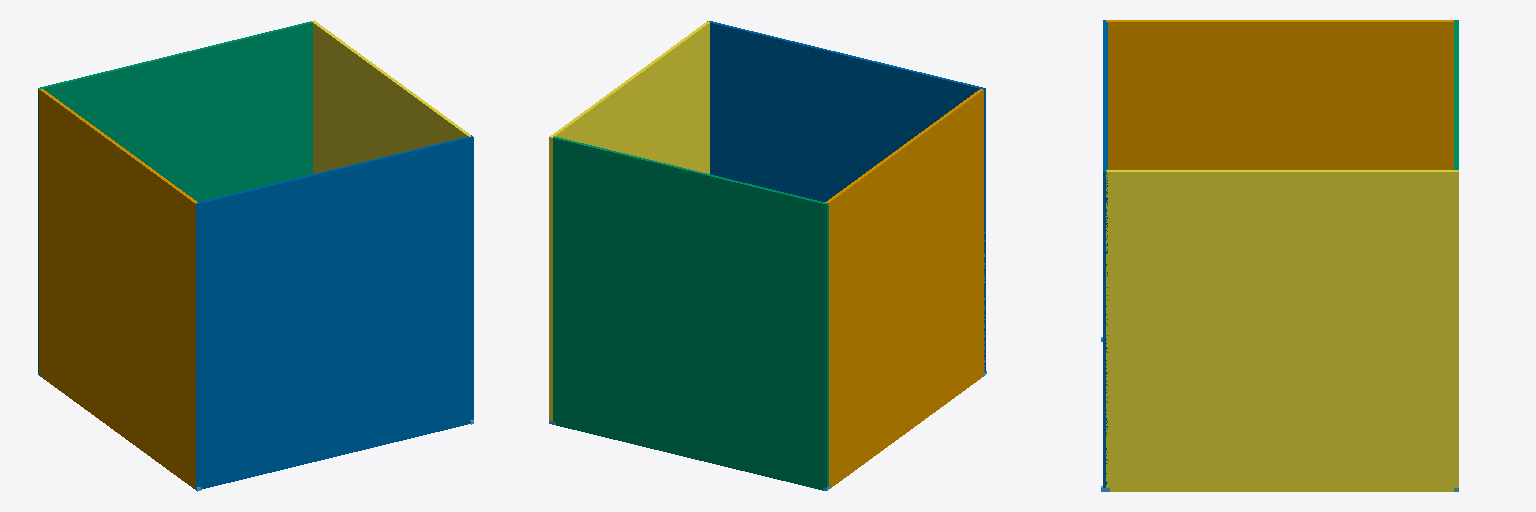
--- Render facts (derived) ---
The picture shows the robot from 3 angles, left to right: view 1: azimuth 30°, elevation 25°; view 2: azimuth 150°, elevation 25°; view 3: azimuth 270°, elevation 25°; orthographic projection.
Robot: arena2 — 44 links, 43 joints (43 fixed); root link base_link; default pose: all joints at 0.
Links seen in each view (by area): view 1: parede4, base_link, parede2, parede3; view 2: parede2, base_link, parede4, parede3; view 3: parede3, base_link, parede4, parede2.
Boxes of the visible links, x1,y1,x2,y2 form: parede4: (195,135,473,489); base_link: (39,89,197,488); parede2: (38,21,312,371); parede3: (311,20,470,173); parede2: (553,136,828,490); base_link: (825,89,984,487); parede4: (707,21,985,371); parede3: (549,21,709,420); parede3: (1106,170,1458,491); base_link: (1106,20,1453,169); parede4: (1103,20,1107,487); parede2: (1454,20,1458,169).
Bounding box of the posed robot: 8.2 × 8.2 × 8.1 m (x, y, z).
44 mesh visuals loaded from 44 distinct referenced files (44 binary STL).

robot.urdf — arena2:
<?xml version='1.0' encoding='utf-8'?>
<robot name="arena2">
    <link name="base_link">
        <inertial>
            <origin xyz="-0.04999999999999956 3.9999999999999987 4.151234949058351" rpy="0.0 0.0 0.0" />
            <mass value="50852.299999999996" />
            <inertia ixx="548920.5270285327" iyy="277911.87627853174" izz="271093.4045833327" ixy="4.219776156466371e-10" iyz="1.0136661484731285e-10" ixz="-1.3786939823890634e-10" />
        </inertial>
        <visual name="base_link_visual">
            <origin xyz="0.0 0.0 0.0" rpy="0.0 0.0 0.0" />
            <geometry>
                <mesh filename="meshes/base_link.stl" scale="0.001 0.001 0.001" />
            </geometry>
        </visual>
        <collision name="base_link_collision">
            <origin xyz="0.0 0.0 0.0" rpy="0.0 0.0 0.0" />
            <geometry>
                <mesh filename="meshes/base_link.stl" scale="0.001 0.001 0.001" />
            </geometry>
        </collision>
    </link>
    <link name="piso">
        <inertial>
            <origin xyz="4.051311075503581 3.755345033912505e-05 -3.8978588629953443" rpy="0.0 -0.0 0.0" />
            <mass value="50264.649" />
            <inertia ixx="268677.25992561993" iyy="537241.6067224811" izz="268647.9978614189" ixy="3.3022105256368373" iyz="5.294360733867505" ixz="177.26065253478006" />
        </inertial>
        <visual name="piso_visual">
            <origin xyz="0.05 0.05000000000000002 -7.900000000000001" rpy="1.5707963267948966 -5.5511151230449725e-17 1.1102230246251565e-16" />
            <geometry>
                <mesh filename="meshes/piso.stl" scale="0.001 0.001 0.001" />
            </geometry>
        </visual>
        <collision name="piso_collision">
            <origin xyz="0.05 0.05000000000000002 -7.900000000000001" rpy="1.5707963267948966 -5.5511151230449725e-17 1.1102230246251565e-16" />
            <geometry>
                <mesh filename="meshes/piso.stl" scale="0.001 0.001 0.001" />
            </geometry>
        </collision>
    </link>
    <link name="parede2">
        <inertial>
            <origin xyz="4.001219698124713 1.1368683772161603e-15 3.950000000000001" rpy="-5.473822126268817e-48 -6.842277657836022e-49 0.0" />
            <mass value="51488.149999999994" />
            <inertia ixx="281388.9935833317" iyy="562692.0969862903" izz="281388.91698629316" ixy="-1.734193564042016e-27" iyz="-9.313225746154784e-10" ixz="-2.328306436538696e-10" />
        </inertial>
        <visual name="parede2_visual">
            <origin xyz="-0.15 8.05 0.0" rpy="-3.141592653589793 -1.5707963267948966 0" />
            <geometry>
                <mesh filename="meshes/parede2.stl" scale="0.001 0.001 0.001" />
            </geometry>
        </visual>
        <collision name="parede2_collision">
            <origin xyz="-0.15 8.05 0.0" rpy="-3.141592653589793 -1.5707963267948966 0" />
            <geometry>
                <mesh filename="meshes/parede2.stl" scale="0.001 0.001 0.001" />
            </geometry>
        </collision>
    </link>
    <link name="parede3">
        <inertial>
            <origin xyz="0.0 4.001219698124713 3.950000000000001" rpy="0.0 -0.0 0.0" />
            <mass value="51488.149999999994" />
            <inertia ixx="562692.096986291" iyy="281388.99358333263" izz="281388.9169862893" ixy="2.328306436538696e-10" iyz="3.4924596548080434e-10" ixz="-1.164153218269348e-09" />
        </inertial>
        <visual name="parede3_visual">
            <origin xyz="-8.05 -0.15 8.000000000000002" rpy="-1.5707963267948966 5.5511151230449725e-17 -1.1102230246251565e-16" />
            <geometry>
                <mesh filename="meshes/parede3.stl" scale="0.001 0.001 0.001" />
            </geometry>
        </visual>
        <collision name="parede3_collision">
            <origin xyz="-8.05 -0.15 8.000000000000002" rpy="-1.5707963267948966 5.5511151230449725e-17 -1.1102230246251565e-16" />
            <geometry>
                <mesh filename="meshes/parede3.stl" scale="0.001 0.001 0.001" />
            </geometry>
        </collision>
    </link>
    <link name="parede4">
        <inertial>
            <origin xyz="4.001204819277108 -2.3092638912203257e-16 4.0" rpy="-5.473822126268817e-48 -6.842277657836022e-49 0.0" />
            <mass value="52123.99999999999" />
            <inertia ixx="291942.0233333326" iyy="576721.1076706818" izz="284865.9576706828" ixy="1.273292582482099e-10" iyz="-3.6743585951626296e-10" ixz="-3.492459654808044e-10" />
        </inertial>
        <visual name="parede4_visual">
            <origin xyz="-0.15 -0.05 -3.552713678800501e-17" rpy="-3.141592653589793 -1.5707963267948966 0" />
            <geometry>
                <mesh filename="meshes/parede4.stl" scale="0.001 0.001 0.001" />
            </geometry>
        </visual>
        <collision name="parede4_collision">
            <origin xyz="-0.15 -0.05 -3.552713678800501e-17" rpy="-3.141592653589793 -1.5707963267948966 0" />
            <geometry>
                <mesh filename="meshes/parede4.stl" scale="0.001 0.001 0.001" />
            </geometry>
        </collision>
    </link>
    <link name="prateleira">
        <inertial>
            <origin xyz="0.00010377143843697922 1.9499636789186838 1.9546700793635738" rpy="0.0 -0.0 0.0" />
            <mass value="3788.0900444916265" />
            <inertia ixx="11660.252028799558" iyy="3086.56643726112" izz="8630.4806542517" ixy="-0.013773031590972094" iyz="-0.048601869304548004" ixz="0.01169535102235386" />
        </inertial>
        <visual name="prateleira_visual">
            <origin xyz="-7.749999999999941 -3.049999999999983 -0.1989999999999914" rpy="-9.324541102565256e-16 6.738535997530123e-16 5.551115123125752e-17" />
            <geometry>
                <mesh filename="meshes/prateleira.stl" scale="0.001 0.001 0.001" />
            </geometry>
        </visual>
        <collision name="prateleira_collision">
            <origin xyz="-7.749999999999941 -3.049999999999983 -0.1989999999999914" rpy="-9.324541102565256e-16 6.738535997530123e-16 5.551115123125752e-17" />
            <geometry>
                <mesh filename="meshes/prateleira.stl" scale="0.001 0.001 0.001" />
            </geometry>
        </collision>
    </link>
    <link name="cubo_A0">
        <inertial>
            <origin xyz="-2.6147972675971688e-14 -2.1600499167107046e-14 0.049999999999980956" rpy="0.0 -0.0 0.0" />
            <mass value="7.85" />
            <inertia ixx="0.013083333333327118" iyy="0.013083333333213432" izz="0.013083333333156588" ixy="5.684341886080802e-14" iyz="-2.842170943040401e-14" ixz="-1.4210854715202004e-14" />
        </inertial>
        <visual name="cubo_A0_visual">
            <origin xyz="-7.650000000000026 -3.8500000000000227 -1.300000000000007" rpy="-6.183424485211102e-16 1.1102230246251568e-16 5.551115123125782e-17" />
            <geometry>
                <mesh filename="meshes/cubo_A0.stl" scale="0.001 0.001 0.001" />
            </geometry>
        </visual>
        <collision name="cubo_A0_collision">
            <origin xyz="-7.650000000000026 -3.8500000000000227 -1.300000000000007" rpy="-6.183424485211102e-16 1.1102230246251568e-16 5.551115123125782e-17" />
            <geometry>
                <mesh filename="meshes/cubo_A0.stl" scale="0.001 0.001 0.001" />
            </geometry>
        </collision>
    </link>
    <link name="cubo_A0b">
        <inertial>
            <origin xyz="-0.0011547764750378066 -0.03841938915680942 5.000000002269189e-05" rpy="6.842277657836021e-49 -0.0 0.0" />
            <mass value="0.00336645554756152" />
            <inertia ixx="2.669010781441993e-06" iyy="2.0155568952739947e-06" izz="4.684562065898623e-06" ixy="-7.223226271974023e-08" iyz="6.9388939039072276e-18" ixz="-1.3877787807814455e-17" />
        </inertial>
        <visual name="cubo_A0b_visual">
            <origin xyz="-3.9501999860443404 1.1489999999999985 7.699999999999996" rpy="1.5707963267948961 1.5707963267948966 0" />
            <geometry>
                <mesh filename="meshes/cubo_A0b.stl" scale="0.001 0.001 0.001" />
            </geometry>
        </visual>
        <collision name="cubo_A0b_collision">
            <origin xyz="-3.9501999860443404 1.1489999999999985 7.699999999999996" rpy="1.5707963267948961 1.5707963267948966 0" />
            <geometry>
                <mesh filename="meshes/cubo_A0b.stl" scale="0.001 0.001 0.001" />
            </geometry>
        </collision>
    </link>
    <link name="cubo_A1">
        <inertial>
            <origin xyz="-2.842170943040401e-14 -2.7284841053187846e-14 0.04999999999998266" rpy="0.0 -0.0 0.0" />
            <mass value="7.85" />
            <inertia ixx="0.013083333333412384" iyy="0.013083333333156588" izz="0.013083333333611336" ixy="5.684341886080802e-14" iyz="-2.1316282072803006e-14" ixz="-1.4210854715202004e-14" />
        </inertial>
        <visual name="cubo_A1_visual">
            <origin xyz="-1.3500000000000194 4.649999999999968 -7.600000000000019" rpy="-3.141592653589793 -1.5707963267948961 0" />
            <geometry>
                <mesh filename="meshes/cubo_A1.stl" scale="0.001 0.001 0.001" />
            </geometry>
        </visual>
        <collision name="cubo_A1_collision">
            <origin xyz="-1.3500000000000194 4.649999999999968 -7.600000000000019" rpy="-3.141592653589793 -1.5707963267948961 0" />
            <geometry>
                <mesh filename="meshes/cubo_A1.stl" scale="0.001 0.001 0.001" />
            </geometry>
        </collision>
    </link>
    <link name="cubo_A1b">
        <inertial>
            <origin xyz="-5.00000000261025e-05 0.038703741367541795 0.0017943905962590635" rpy="1.3684555315672045e-48 -0.0 1.3684555315672045e-48" />
            <mass value="0.0034221229338991153" />
            <inertia ixx="4.749550716900973e-06" iyy="2.037479303718115e-06" izz="2.712077116856503e-06" ixy="1.3877787807814455e-17" iyz="-1.1235175650589623e-07" ixz="2.7755575615628907e-17" />
        </inertial>
        <visual name="cubo_A1b_visual">
            <origin xyz="-7.699999999999999 -1.1490000000000007 4.750159788511614" rpy="-1.5707963267948972 1.232595164407831e-32 5.721188725465146e-18" />
            <geometry>
                <mesh filename="meshes/cubo_A1b.stl" scale="0.001 0.001 0.001" />
            </geometry>
        </visual>
        <collision name="cubo_A1b_collision">
            <origin xyz="-7.699999999999999 -1.1490000000000007 4.750159788511614" rpy="-1.5707963267948972 1.232595164407831e-32 5.721188725465146e-18" />
            <geometry>
                <mesh filename="meshes/cubo_A1b.stl" scale="0.001 0.001 0.001" />
            </geometry>
        </collision>
    </link>
    <link name="cubo_A2">
        <inertial>
            <origin xyz="-3.2969182939268646e-14 -3.637978807091713e-14 0.04999999999998039" rpy="0.0 -0.0 0.0" />
            <mass value="7.85" />
            <inertia ixx="0.013083333333497649" iyy="0.013083333333327118" izz="0.013083333333270275" ixy="5.684341886080802e-14" iyz="-5.684341886080802e-14" ixz="-5.684341886080802e-14" />
        </inertial>
        <visual name="cubo_A2_visual">
            <origin xyz="-1.3500000000000227 5.549999999999959 -7.600000000000022" rpy="-3.141592653589793 -1.5707963267948961 0" />
            <geometry>
                <mesh filename="meshes/cubo_A2.stl" scale="0.001 0.001 0.001" />
            </geometry>
        </visual>
        <collision name="cubo_A2_collision">
            <origin xyz="-1.3500000000000227 5.549999999999959 -7.600000000000022" rpy="-3.141592653589793 -1.5707963267948961 0" />
            <geometry>
                <mesh filename="meshes/cubo_A2.stl" scale="0.001 0.001 0.001" />
            </geometry>
        </collision>
    </link>
    <link name="cubo_A2b">
        <inertial>
            <origin xyz="-0.0012561454106037218 -5.000000003406058e-05 -0.03840793675875986" rpy="-1.3684555315672042e-48 -0.0 0.0" />
            <mass value="0.003380506809956903" />
            <inertia ixx="2.6805992707767948e-06" iyy="4.723469094469744e-06" izz="2.0428754578527553e-06" ixy="5.5511151231257815e-17" iyz="3.4694469519536138e-18" ixz="-7.896890915834452e-08" />
        </inertial>
        <visual name="cubo_A2b_visual">
            <origin xyz="-5.65 -7.700000000000001 1.149" rpy="-3.141592653589793 -1.232595164407831e-32 1.5707963267948966" />
            <geometry>
                <mesh filename="meshes/cubo_A2b.stl" scale="0.001 0.001 0.001" />
            </geometry>
        </visual>
        <collision name="cubo_A2b_collision">
            <origin xyz="-5.65 -7.700000000000001 1.149" rpy="-3.141592653589793 -1.232595164407831e-32 1.5707963267948966" />
            <geometry>
                <mesh filename="meshes/cubo_A2b.stl" scale="0.001 0.001 0.001" />
            </geometry>
        </collision>
    </link>
    <link name="cubo_A3">
        <inertial>
            <origin xyz="-3.524291969370097e-14 -4.092726157978177e-14 0.04999999999998039" rpy="0.0 -0.0 0.0" />
            <mass value="7.85" />
            <inertia ixx="0.013083333333497649" iyy="0.013083333333327118" izz="0.013083333333156588" ixy="1.1368683772161603e-13" iyz="-5.684341886080802e-14" ixz="-5.684341886080802e-14" />
        </inertial>
        <visual name="cubo_A3_visual">
            <origin xyz="-1.350000000000025 6.349999999999954 -7.600000000000022" rpy="-3.141592653589793 -1.5707963267948961 0" />
            <geometry>
                <mesh filename="meshes/cubo_A3.stl" scale="0.001 0.001 0.001" />
            </geometry>
        </visual>
        <collision name="cubo_A3_collision">
            <origin xyz="-1.350000000000025 6.349999999999954 -7.600000000000022" rpy="-3.141592653589793 -1.5707963267948961 0" />
            <geometry>
                <mesh filename="meshes/cubo_A3.stl" scale="0.001 0.001 0.001" />
            </geometry>
        </collision>
    </link>
    <link name="cubo_A3b">
        <inertial>
            <origin xyz="0.001868768299320891 5.000000003747118e-05 -0.03804275545927098" rpy="1.3684555315672042e-48 -0.0 0.0" />
            <mass value="0.0032945540181828627" />
            <inertia ixx="2.6214247504374716e-06" iyy="4.616598406836923e-06" izz="1.99517914750702e-06" ixy="-2.7755575615628898e-17" iyz="-3.4694469519536138e-18" ixz="1.1716443917147422e-07" />
        </inertial>
        <visual name="cubo_A3b_visual">
            <origin xyz="6.4501689955626 7.699999999999976 1.1490000000000204" rpy="-3.141592653589791 -1.1102230246316025e-16 -1.5707963267948966" />
            <geometry>
                <mesh filename="meshes/cubo_A3b.stl" scale="0.001 0.001 0.001" />
            </geometry>
        </visual>
        <collision name="cubo_A3b_collision">
            <origin xyz="6.4501689955626 7.699999999999976 1.1490000000000204" rpy="-3.141592653589791 -1.1102230246316025e-16 -1.5707963267948966" />
            <geometry>
                <mesh filename="meshes/cubo_A3b.stl" scale="0.001 0.001 0.001" />
            </geometry>
        </collision>
    </link>
    <link name="cubo_B0">
        <inertial>
            <origin xyz="-1.432454155292362e-13 -7.958078640513123e-14 0.049999999999995166" rpy="0.0 -0.0 0.0" />
            <mass value="7.850000000007763" />
            <inertia ixx="0.013083333333725022" iyy="0.013083333333327118" izz="0.013083333333383962" ixy="1.7053025658242404e-13" iyz="1.5631940186722204e-13" ixz="-5.684341886080802e-14" />
        </inertial>
        <visual name="cubo_B0_visual">
            <origin xyz="-1.9000000000001034 6.149999999999919 -7.599999999999895" rpy="-3.141592653589793 -1.5707963267948961 0" />
            <geometry>
                <mesh filename="meshes/cubo_B0.stl" scale="0.001 0.001 0.001" />
            </geometry>
        </visual>
        <collision name="cubo_B0_collision">
            <origin xyz="-1.9000000000001034 6.149999999999919 -7.599999999999895" rpy="-3.141592653589793 -1.5707963267948961 0" />
            <geometry>
                <mesh filename="meshes/cubo_B0.stl" scale="0.001 0.001 0.001" />
            </geometry>
        </collision>
    </link>
    <link name="cubo_B0b">
        <inertial>
            <origin xyz="-0.001805563802662391 -5.0000000145473676e-05 -0.039465968419811474" rpy="-1.3684555315672042e-48 -0.0 3.78367363846703e-78" />
            <mass value="0.003579227627820707" />
            <inertia ixx="2.8313631682819187e-06" iyy="4.985599320939114e-06" izz="2.1542421179687743e-06" ixy="-5.558462372002816e-17" iyz="-6.942765923246245e-18" ixz="-1.135288076326013e-07" />
        </inertial>
        <visual name="cubo_B0b_visual">
            <origin xyz="-6.250182210361124 -7.70000000000011 1.74900000000021" rpy="-3.14159265358976 -1.1102230246316213e-16 1.5707963267949308" />
            <geometry>
                <mesh filename="meshes/cubo_B0b.stl" scale="0.001 0.001 0.001" />
            </geometry>
        </visual>
        <collision name="cubo_B0b_collision">
            <origin xyz="-6.250182210361124 -7.70000000000011 1.74900000000021" rpy="-3.14159265358976 -1.1102230246316213e-16 1.5707963267949308" />
            <geometry>
                <mesh filename="meshes/cubo_B0b.stl" scale="0.001 0.001 0.001" />
            </geometry>
        </collision>
    </link>
    <link name="cubo_B1">
        <inertial>
            <origin xyz="-1.3301360013429075e-13 -7.503331289626658e-14 0.049999999999988345" rpy="0.0 -0.0 0.0" />
            <mass value="7.850000000006157" />
            <inertia ixx="0.013083333333497649" iyy="0.013083333333383962" izz="0.013083333333270275" ixy="5.684341886080802e-14" iyz="-2.842170943040401e-14" ixz="-9.448429489215297e-47" />
        </inertial>
        <visual name="cubo_B1_visual">
            <origin xyz="-1.9000000000000945 5.449999999999923 -7.599999999999913" rpy="-3.141592653589793 -1.5707963267948961 0" />
            <geometry>
                <mesh filename="meshes/cubo_B1.stl" scale="0.001 0.001 0.001" />
            </geometry>
        </visual>
        <collision name="cubo_B1_collision">
            <origin xyz="-1.9000000000000945 5.449999999999923 -7.599999999999913" rpy="-3.141592653589793 -1.5707963267948961 0" />
            <geometry>
                <mesh filename="meshes/cubo_B1.stl" scale="0.001 0.001 0.001" />
            </geometry>
        </collision>
    </link>
    <link name="cubo_B1b">
        <inertial>
            <origin xyz="-0.0016257857979690017 -5.0000000134104996e-05 -0.03905541597279893" rpy="-1.3684555315672042e-48 -0.0 3.783673638467073e-78" />
            <mass value="0.003486966925180386" />
            <inertia ixx="2.7612849005376186e-06" iyy="4.8189532964593146e-06" izz="2.057674207467386e-06" ixy="5.54409722873542e-17" iyz="-6.942363481795336e-18" ixz="-1.0172909950534324e-07" />
        </inertial>
        <visual name="cubo_B1b_visual">
            <origin xyz="-5.550186070069085 -7.70000000000019 1.749000000000191" rpy="-3.14159265358976 -1.1102230246316213e-16 1.5707963267949308" />
            <geometry>
                <mesh filename="meshes/cubo_B1b.stl" scale="0.001 0.001 0.001" />
            </geometry>
        </visual>
        <collision name="cubo_B1b_collision">
            <origin xyz="-5.550186070069085 -7.70000000000019 1.749000000000191" rpy="-3.14159265358976 -1.1102230246316213e-16 1.5707963267949308" />
            <geometry>
                <mesh filename="meshes/cubo_B1b.stl" scale="0.001 0.001 0.001" />
            </geometry>
        </collision>
    </link>
    <link name="cubo_B2">
        <inertial>
            <origin xyz="-1.20508047984913e-13 -6.30961949354969e-14 0.04999999999997698" rpy="0.0 -0.0 0.0" />
            <mass value="7.85000000000464" />
            <inertia ixx="0.013083333333611336" iyy="0.013083333333554492" izz="0.013083333333270275" ixy="5.684341886080802e-14" iyz="-4.263256414560601e-14" ixz="-2.842170943040401e-14" />
        </inertial>
        <visual name="cubo_B2_visual">
            <origin xyz="1.8999999999998387 -4.70000000000007 -7.5999999999999295" rpy="-6.69535286834775e-17 -1.5707963267948961 0" />
            <geometry>
                <mesh filename="meshes/cubo_B2.stl" scale="0.001 0.001 0.001" />
            </geometry>
        </visual>
        <collision name="cubo_B2_collision">
            <origin xyz="1.8999999999998387 -4.70000000000007 -7.5999999999999295" rpy="-6.69535286834775e-17 -1.5707963267948961 0" />
            <geometry>
                <mesh filename="meshes/cubo_B2.stl" scale="0.001 0.001 0.001" />
            </geometry>
        </collision>
    </link>
    <link name="cubo_B2b">
        <inertial>
            <origin xyz="0.001687823284250385 -5.000000012159944e-05 0.038702858515766256" rpy="-2.7369110631344083e-48 -5.473822126268818e-48 -6.310887241768096e-30" />
            <mass value="0.0034174831577890932" />
            <inertia ixx="2.708368665615967e-06" iyy="4.701763045969474e-06" izz="1.993400076227836e-06" ixy="-2.766492653425514e-17" iyz="-2.08118823705391e-17" ixz="-1.0553862871826024e-07" />
        </inertial>
        <visual name="cubo_B2b_visual">
            <origin xyz="4.800213417209187 -7.700000000000058 -1.7489999999997836" rpy="-4.5970612857250995e-14 1.1102230246316326e-16 1.570796326794851" />
            <geometry>
                <mesh filename="meshes/cubo_B2b.stl" scale="0.001 0.001 0.001" />
            </geometry>
        </visual>
        <collision name="cubo_B2b_collision">
            <origin xyz="4.800213417209187 -7.700000000000058 -1.7489999999997836" rpy="-4.5970612857250995e-14 1.1102230246316326e-16 1.570796326794851" />
            <geometry>
                <mesh filename="meshes/cubo_B2b.stl" scale="0.001 0.001 0.001" />
            </geometry>
        </collision>
    </link>
    <link name="cubo_B3">
        <inertial>
            <origin xyz="-1.0459189070388675e-13 -5.74118530494161e-14 0.04999999999996788" rpy="0.0 -0.0 0.0" />
            <mass value="7.850000000002766" />
            <inertia ixx="0.013083333333270275" iyy="0.013083333333156588" izz="0.013083333333270275" ixy="1.1368683772161603e-13" iyz="1.1368683772161603e-13" ixz="-7.105427357601002e-14" />
        </inertial>
        <visual name="cubo_B3_visual">
            <origin xyz="1.8999999999998556 -3.8500000000000645 -7.599999999999956" rpy="-6.69535286834775e-17 -1.5707963267948961 0" />
            <geometry>
                <mesh filename="meshes/cubo_B3.stl" scale="0.001 0.001 0.001" />
            </geometry>
        </visual>
        <collision name="cubo_B3_collision">
            <origin xyz="1.8999999999998556 -3.8500000000000645 -7.599999999999956" rpy="-6.69535286834775e-17 -1.5707963267948961 0" />
            <geometry>
                <mesh filename="meshes/cubo_B3.stl" scale="0.001 0.001 0.001" />
            </geometry>
        </collision>
    </link>
    <link name="cubo_B3b">
        <inertial>
            <origin xyz="0.0014727625821399216 -5.000000010568329e-05 0.038497712811266925" rpy="-2.7369110631344083e-48 -5.473822126268818e-48 1.0033585840863259e-78" />
            <mass value="0.0033823094095438186" />
            <inertia ixx="2.681337578219755e-06" iyy="4.701209886201483e-06" izz="2.0198779451807702e-06" ixy="4.170225329203213e-17" iyz="3.1434283525621654e-21" ixz="-9.216629399261266e-08" />
        </inertial>
        <visual name="cubo_B3b_visual">
            <origin xyz="3.9501806413540783 -7.700000000000135 -1.748999999999864" rpy="-3.460192908509002e-14 1.1102230246316247e-16 1.5707963267948626" />
            <geometry>
                <mesh filename="meshes/cubo_B3b.stl" scale="0.001 0.001 0.001" />
            </geometry>
        </visual>
        <collision name="cubo_B3b_collision">
            <origin xyz="3.9501806413540783 -7.700000000000135 -1.748999999999864" rpy="-3.460192908509002e-14 1.1102230246316247e-16 1.5707963267948626" />
            <geometry>
                <mesh filename="meshes/cubo_B3b.stl" scale="0.001 0.001 0.001" />
            </geometry>
        </collision>
    </link>
    <link name="cubo_C0">
        <inertial>
            <origin xyz="-1.2278178473934532e-13 -2.4729979486437516e-09 0.04999999999992696" rpy="0.0 -0.0 0.0" />
            <mass value="7.850000000002231" />
            <inertia ixx="0.013083333333668179" iyy="0.013083333333270275" izz="0.013083333333611336" ixy="2.2737367544323206e-13" iyz="-1.1368683772161603e-13" ixz="-5.684341886080802e-14" />
        </inertial>
        <visual name="cubo_C0_visual">
            <origin xyz="-2.450000000000047 6.207586632581124 -7.599999999999987" rpy="-3.141592653589793 -1.5707963267948961 0" />
            <geometry>
                <mesh filename="meshes/cubo_C0.stl" scale="0.001 0.001 0.001" />
            </geometry>
        </visual>
        <collision name="cubo_C0_collision">
            <origin xyz="-2.450000000000047 6.207586632581124 -7.599999999999987" rpy="-3.141592653589793 -1.5707963267948961 0" />
            <geometry>
                <mesh filename="meshes/cubo_C0.stl" scale="0.001 0.001 0.001" />
            </geometry>
        </collision>
    </link>
    <link name="cubo_C0b">
        <inertial>
            <origin xyz="-0.0017972795318416956 -5.000000012387318e-05 -0.03789103646434683" rpy="-1.3684555315672042e-48 -0.0 0.0" />
            <mass value="0.0032704932655347844" />
            <inertia ixx="2.597988004532369e-06" iyy="4.533123628136513e-06" izz="1.9351410743828623e-06" ixy="2.7755575615628907e-17" iyz="-2.3852455307631233e-38" ixz="-1.1355523837214275e-07" />
        </inertial>
        <visual name="cubo_C0b_visual">
            <origin xyz="-6.303878076398405 -7.700000000000001 2.2989999999999995" rpy="3.1415926535897927 -1.1102230246316025e-16 1.5707963267948966" />
            <geometry>
                <mesh filename="meshes/cubo_C0b.stl" scale="0.001 0.001 0.001" />
            </geometry>
        </visual>
        <collision name="cubo_C0b_collision">
            <origin xyz="-6.303878076398405 -7.700000000000001 2.2989999999999995" rpy="3.1415926535897927 -1.1102230246316025e-16 1.5707963267948966" />
            <geometry>
                <mesh filename="meshes/cubo_C0b.stl" scale="0.001 0.001 0.001" />
            </geometry>
        </collision>
    </link>
    <link name="cubo_C1">
        <inertial>
            <origin xyz="-1.1596057447604835e-13 -7.844391802791507e-14 0.04999999999992355" rpy="0.0 -0.0 0.0" />
            <mass value="7.850000000002141" />
            <inertia ixx="0.013083333333952396" iyy="0.013083333333497649" izz="0.013083333333611336" ixy="1.1368683772161603e-13" iyz="5.684341886080802e-14" ixz="-5.684341886080802e-14" />
        </inertial>
        <visual name="cubo_C1_visual">
            <origin xyz="-2.450000000000041 5.549999999999918 -7.599999999999994" rpy="-3.141592653589793 -1.5707963267948961 0" />
            <geometry>
                <mesh filename="meshes/cubo_C1.stl" scale="0.001 0.001 0.001" />
            </geometry>
        </visual>
        <collision name="cubo_C1_collision">
            <origin xyz="-2.450000000000041 5.549999999999918 -7.599999999999994" rpy="-3.141592653589793 -1.5707963267948961 0" />
            <geometry>
                <mesh filename="meshes/cubo_C1.stl" scale="0.001 0.001 0.001" />
            </geometry>
        </collision>
    </link>
    <link name="cubo_C1b">
        <inertial>
            <origin xyz="-0.00284178114594738 -5.0000000117051966e-05 -0.03697437164910497" rpy="-1.3684555315672042e-48 -0.0 1.577721810442024e-30" />
            <mass value="0.0031060837184727986" />
            <inertia ixx="2.460046927749148e-06" iyy="4.2583200521723024e-06" izz="1.7982783011571968e-06" ixy="-2.777601961411645e-17" iyz="6.93688481748906e-18" ixz="-1.767211102385313e-07" />
        </inertial>
        <visual name="cubo_C1b_visual">
            <origin xyz="-5.649939888577219 -7.700000000000065 2.299000000000064" rpy="-3.1415926535897825 -1.1102230246316084e-16 1.5707963267949079" />
            <geometry>
                <mesh filename="meshes/cubo_C1b.stl" scale="0.001 0.001 0.001" />
            </geometry>
        </visual>
        <collision name="cubo_C1b_collision">
            <origin xyz="-5.649939888577219 -7.700000000000065 2.299000000000064" rpy="-3.1415926535897825 -1.1102230246316084e-16 1.5707963267949079" />
            <geometry>
                <mesh filename="meshes/cubo_C1b.stl" scale="0.001 0.001 0.001" />
            </geometry>
        </collision>
    </link>
    <link name="cubo_C2">
        <inertial>
            <origin xyz="-1.0686562745831907e-13 -6.423306331271306e-14 0.04999999999991559" rpy="0.0 -0.0 0.0" />
            <mass value="7.849999999999731" />
            <inertia ixx="0.013083333333469227" iyy="0.013083333333156588" izz="0.013083333333270275" ixy="1.1368683772161603e-13" iyz="-4.263256414560601e-14" ixz="2.842170943040401e-14" />
        </inertial>
        <visual name="cubo_C2_visual">
            <origin xyz="-2.4500000000000317 4.699999999999932 -7.600000000000023" rpy="-3.141592653589793 -1.5707963267948961 0" />
            <geometry>
                <mesh filename="meshes/cubo_C2.stl" scale="0.001 0.001 0.001" />
            </geometry>
        </visual>
        <collision name="cubo_C2_collision">
            <origin xyz="-2.4500000000000317 4.699999999999932 -7.600000000000023" rpy="-3.141592653589793 -1.5707963267948961 0" />
            <geometry>
                <mesh filename="meshes/cubo_C2.stl" scale="0.001 0.001 0.001" />
            </geometry>
        </collision>
    </link>
    <link name="cubo_C2b">
        <inertial>
            <origin xyz="-0.001637436390012681 -5.000000010227268e-05 -0.03756122361987508" rpy="-2.7369110631344083e-48 -0.0 -3.7836736384670235e-78" />
            <mass value="0.0032174421912717806" />
            <inertia ixx="2.550816307816949e-06" iyy="4.490030092993423e-06" izz="1.9392191474287834e-06" ixy="4.169950234831422e-17" iyz="3.492821080984784e-21" ixz="-1.0241059712756682e-07" />
        </inertial>
        <visual name="cubo_C2b_visual">
            <origin xyz="-4.650205000225202 -7.6999999999998385 2.2989999999998396" rpy="3.1415926535897585 -1.1102230246315833e-16 1.5707963267948626" />
            <geometry>
                <mesh filename="meshes/cubo_C2b.stl" scale="0.001 0.001 0.001" />
            </geometry>
        </visual>
        <collision name="cubo_C2b_collision">
            <origin xyz="-4.650205000225202 -7.6999999999998385 2.2989999999998396" rpy="3.1415926535897585 -1.1102230246315833e-16 1.5707963267948626" />
            <geometry>
                <mesh filename="meshes/cubo_C2b.stl" scale="0.001 0.001 0.001" />
            </geometry>
        </collision>
    </link>
    <link name="cubo_C3">
        <inertial>
            <origin xyz="-1.0004441719502211e-13 -6.082245818106458e-14 0.049999999999921274" rpy="0.0 -0.0 0.0" />
            <mass value="7.849999999999374" />
            <inertia ixx="0.013083333333554492" iyy="0.013083333333270275" izz="0.013083333333383962" ixy="1.4210854715202004e-13" iyz="-5.684341886080802e-14" ixz="-2.842170943040401e-14" />
        </inertial>
        <visual name="cubo_C3_visual">
            <origin xyz="-2.450000000000025 3.749999999999924 -7.600000000000011" rpy="-3.141592653589793 -1.5707963267948961 0" />
            <geometry>
                <mesh filename="meshes/cubo_C3.stl" scale="0.001 0.001 0.001" />
            </geometry>
        </visual>
        <collision name="cubo_C3_collision">
            <origin xyz="-2.450000000000025 3.749999999999924 -7.600000000000011" rpy="-3.141592653589793 -1.5707963267948961 0" />
            <geometry>
                <mesh filename="meshes/cubo_C3.stl" scale="0.001 0.001 0.001" />
            </geometry>
        </collision>
    </link>
    <link name="cubo_C3b">
        <inertial>
            <origin xyz="-0.0020357462900580004 -5.0000000099998944e-05 -0.037459681627859426" rpy="-5.495717414773892e-45 -0.0 1.577721810442024e-30" />
            <mass value="0.003172141183403243" />
            <inertia ixx="2.516895564325104e-06" iyy="4.3399104303967745e-06" izz="1.8230201530855528e-06" ixy="-2.7776300895153206e-17" iyz="6.937463778435332e-18" ixz="-1.2579516684221337e-07" />
        </inertial>
        <visual name="cubo_C3b_visual">
            <origin xyz="-3.749995944484723 -7.700000000000041 2.299000000000054" rpy="-3.1415926535897793 -1.1102230246319316e-16 1.5707963267949079" />
            <geometry>
                <mesh filename="meshes/cubo_C3b.stl" scale="0.001 0.001 0.001" />
            </geometry>
        </visual>
        <collision name="cubo_C3b_collision">
            <origin xyz="-3.749995944484723 -7.700000000000041 2.299000000000054" rpy="-3.1415926535897793 -1.1102230246319316e-16 1.5707963267949079" />
            <geometry>
                <mesh filename="meshes/cubo_C3b.stl" scale="0.001 0.001 0.001" />
            </geometry>
        </collision>
    </link>
    <link name="cubo_D0">
        <inertial>
            <origin xyz="-1.580247044330463e-13 -8.29913915367797e-14 0.04999999999992667" rpy="0.0 -0.0 0.0" />
            <mass value="7.850000000008834" />
            <inertia ixx="0.013083333333668179" iyy="0.013083333333611336" izz="0.013083333333383962" ixy="5.684341886080802e-14" iyz="1.1368683772161603e-13" ixz="-1.1368683772161603e-13" />
        </inertial>
        <visual name="cubo_D0_visual">
            <origin xyz="-3.00000000000004 6.3499999999999135 -7.599999999999953" rpy="-3.141592653589793 -1.5707963267948961 0" />
            <geometry>
                <mesh filename="meshes/cubo_D0.stl" scale="0.001 0.001 0.001" />
            </geometry>
        </visual>
        <collision name="cubo_D0_collision">
            <origin xyz="-3.00000000000004 6.3499999999999135 -7.599999999999953" rpy="-3.141592653589793 -1.5707963267948961 0" />
            <geometry>
                <mesh filename="meshes/cubo_D0.stl" scale="0.001 0.001 0.001" />
            </geometry>
        </collision>
    </link>
    <link name="cubo_D0b">
        <inertial>
            <origin xyz="-0.0015439218719541258 -5.000000016138984e-05 -0.03803729118806473" rpy="-1.3684555315672042e-48 -0.0 1.577721810442024e-30" />
            <mass value="0.0032938960375277853" />
            <inertia ixx="2.612059578493974e-06" iyy="4.569369354889828e-06" izz="1.9573152665874893e-06" ixy="-8.328897888277872e-17" iyz="1.3876691464022206e-17" ixz="-9.643541980935975e-08" />
        </inertial>
        <visual name="cubo_D0b_visual">
            <origin xyz="-6.450258479283258 -7.700000000000074 2.8490000000000704" rpy="-3.1415926535897825 -1.1102230246316084e-16 1.5707963267949079" />
            <geometry>
                <mesh filename="meshes/cubo_D0b.stl" scale="0.001 0.001 0.001" />
            </geometry>
        </visual>
        <collision name="cubo_D0b_collision">
            <origin xyz="-6.450258479283258 -7.700000000000074 2.8490000000000704" rpy="-3.1415926535897825 -1.1102230246316084e-16 1.5707963267949079" />
            <geometry>
                <mesh filename="meshes/cubo_D0b.stl" scale="0.001 0.001 0.001" />
            </geometry>
        </collision>
    </link>
    <link name="cubo_D1">
        <inertial>
            <origin xyz="-1.523403625469655e-13 -7.844391802791507e-14 0.04999999999995623" rpy="0.0 -0.0 0.0" />
            <mass value="7.850000000013654" />
            <inertia ixx="0.013083333333668179" iyy="0.013083333333270275" izz="0.013083333333383962" ixy="5.684341886080802e-14" iyz="-5.684341886080802e-14" ixz="-5.684341886080802e-14" />
        </inertial>
        <visual name="cubo_D1_visual">
            <origin xyz="-3.000000000000033 5.549999999999918 -7.599999999999959" rpy="-3.141592653589793 -1.5707963267948961 0" />
            <geometry>
                <mesh filename="meshes/cubo_D1.stl" scale="0.001 0.001 0.001" />
            </geometry>
        </visual>
        <collision name="cubo_D1_collision">
            <origin xyz="-3.000000000000033 5.549999999999918 -7.599999999999959" rpy="-3.141592653589793 -1.5707963267948961 0" />
            <geometry>
                <mesh filename="meshes/cubo_D1.stl" scale="0.001 0.001 0.001" />
            </geometry>
        </collision>
    </link>
    <link name="cubo_D1b">
        <inertial>
            <origin xyz="-0.0013603586720194016 -5.000000015343176e-05 -0.03772917442886353" rpy="2.2032134058231987e-46 -0.0 3.155443620884048e-30" />
            <mass value="0.0032404595098630127" />
            <inertia ixx="2.574944504230013e-06" iyy="4.512831437153418e-06" izz="1.9378923337143306e-06" ixy="-2.779963806308196e-17" iyz="2.7753701705208663e-17" ixz="-8.241545185887497e-08" />
        </inertial>
        <visual name="cubo_D1b_visual">
            <origin xyz="-5.650210528288317 -7.70000000000013 2.849000042453693" rpy="-3.141592653589765 -1.1102230246329073e-16 1.5707963267949194" />
            <geometry>
                <mesh filename="meshes/cubo_D1b.stl" scale="0.001 0.001 0.001" />
            </geometry>
        </visual>
        <collision name="cubo_D1b_collision">
            <origin xyz="-5.650210528288317 -7.70000000000013 2.849000042453693" rpy="-3.141592653589765 -1.1102230246329073e-16 1.5707963267949194" />
            <geometry>
                <mesh filename="meshes/cubo_D1b.stl" scale="0.001 0.001 0.001" />
            </geometry>
        </collision>
    </link>
    <link name="cubo_D2">
        <inertial>
            <origin xyz="-1.4779288903810084e-13 -7.048583938740194e-14 0.04999999999992156" rpy="0.0 -0.0 0.0" />
            <mass value="7.85000000000812" />
            <inertia ixx="0.013083333333668179" iyy="0.013083333333383962" izz="0.013083333333156588" ixy="5.684341886080802e-14" iyz="-1.2789769243681803e-13" ixz="-1.1368683772161603e-13" />
        </inertial>
        <visual name="cubo_D2_visual">
            <origin xyz="-3.0000000000000298 4.699999999999927 -7.599999999999964" rpy="-3.141592653589793 -1.5707963267948961 0" />
            <geometry>
                <mesh filename="meshes/cubo_D2.stl" scale="0.001 0.001 0.001" />
            </geometry>
        </visual>
        <collision name="cubo_D2_collision">
            <origin xyz="-3.0000000000000298 4.699999999999927 -7.599999999999964" rpy="-3.141592653589793 -1.5707963267948961 0" />
            <geometry>
                <mesh filename="meshes/cubo_D2.stl" scale="0.001 0.001 0.001" />
            </geometry>
        </collision>
    </link>
    <link name="cubo_D2b">
        <inertial>
            <origin xyz="-0.001242745104686378 -5.0000000145473676e-05 -0.03707692817470445" rpy="-1.3684555315672042e-48 -0.0 1.577721810442024e-30" />
            <mass value="0.0031403008496700335" />
            <inertia ixx="2.487587056426709e-06" iyy="4.395386881447803e-06" izz="1.9078050588205997e-06" ixy="-2.777726478854015e-17" iyz="-8.83935851565287e-22" ixz="-7.775181976032995e-08" />
        </inertial>
        <visual name="cubo_D2b_visual">
            <origin xyz="-4.800191113545812 -7.700000000000053 2.849000000000051" rpy="-3.1415926535897825 -1.1102230246316084e-16 1.5707963267949079" />
            <geometry>
                <mesh filename="meshes/cubo_D2b.stl" scale="0.001 0.001 0.001" />
            </geometry>
        </visual>
        <collision name="cubo_D2b_collision">
            <origin xyz="-4.800191113545812 -7.700000000000053 2.849000000000051" rpy="-3.1415926535897825 -1.1102230246316084e-16 1.5707963267949079" />
            <geometry>
                <mesh filename="meshes/cubo_D2b.stl" scale="0.001 0.001 0.001" />
            </geometry>
        </collision>
    </link>
    <link name="cubo_D3">
        <inertial>
            <origin xyz="-1.432454155292362e-13 -6.366462912410498e-14 0.04999999999992213" rpy="0.0 -0.0 0.0" />
            <mass value="7.850000000007942" />
            <inertia ixx="0.013083333333554492" iyy="0.013083333333270275" izz="0.013083333333383962" ixy="1.1368683772161603e-13" iyz="-4.263256414560601e-14" ixz="-2.842170943040401e-14" />
        </inertial>
        <visual name="cubo_D3_visual">
            <origin xyz="-3.0000000000000258 3.7499999999999343 -7.59999999999997" rpy="-3.141592653589793 -1.5707963267948961 0" />
            <geometry>
                <mesh filename="meshes/cubo_D3.stl" scale="0.001 0.001 0.001" />
            </geometry>
        </visual>
        <collision name="cubo_D3_collision">
            <origin xyz="-3.0000000000000258 3.7499999999999343 -7.59999999999997" rpy="-3.141592653589793 -1.5707963267948961 0" />
            <geometry>
                <mesh filename="meshes/cubo_D3.stl" scale="0.001 0.001 0.001" />
            </geometry>
        </collision>
    </link>
    <link name="cubo_D3b">
        <inertial>
            <origin xyz="-0.0016851650604581892 -5.000000014433681e-05 -0.03758061422206992" rpy="-1.3684555315672042e-48 -0.0 1.577721810442024e-30" />
            <mass value="0.003222146756777093" />
            <inertia ixx="2.5546000686771367e-06" iyy="4.525179769690467e-06" izz="1.970585071342512e-06" ixy="-2.240289746866106e-20" iyz="-1.198765973783619e-21" ixz="-1.0544457017258589e-07" />
        </inertial>
        <visual name="cubo_D3b_visual">
            <origin xyz="-3.8501860931788685 -7.700000000000045 2.8490000000000406" rpy="-3.1415926535897825 -1.1102230246316084e-16 1.5707963267949079" />
            <geometry>
                <mesh filename="meshes/cubo_D3b.stl" scale="0.001 0.001 0.001" />
            </geometry>
        </visual>
        <collision name="cubo_D3b_collision">
            <origin xyz="-3.8501860931788685 -7.700000000000045 2.8490000000000406" rpy="-3.1415926535897825 -1.1102230246316084e-16 1.5707963267949079" />
            <geometry>
                <mesh filename="meshes/cubo_D3b.stl" scale="0.001 0.001 0.001" />
            </geometry>
        </collision>
    </link>
    <link name="Base_de_Takeoff">
        <inertial>
            <origin xyz="2.842170943040401e-16 -1.4210854715202004e-16 0.25049999999999983" rpy="0.0 -0.0 0.0" />
            <mass value="11798.549999999997" />
            <inertia ixx="2459.0154457124936" iyy="4179.637320712489" izz="6145.078124999998" ixy="3.6379788070917125e-12" iyz="3.787196790891681e-29" ixz="1.5154852737946934e-29" />
        </inertial>
        <visual name="Base_de_Takeoff_visual">
            <origin xyz="-1.000000000000035 -0.7500000000000396 -0.20100000000000925" rpy="-5.551115123125764e-17 1.1102230246251565e-16 5.5511151230449725e-17" />
            <geometry>
                <mesh filename="meshes/Base_de_Takeoff.stl" scale="0.001 0.001 0.001" />
            </geometry>
        </visual>
        <collision name="Base_de_Takeoff_collision">
            <origin xyz="-1.000000000000035 -0.7500000000000396 -0.20100000000000925" rpy="-5.551115123125764e-17 1.1102230246251565e-16 5.5511151230449725e-17" />
            <geometry>
                <mesh filename="meshes/Base_de_Takeoff.stl" scale="0.001 0.001 0.001" />
            </geometry>
        </collision>
    </link>
    <link name="Base_suspensa_1.5">
        <inertial>
            <origin xyz="0.0 -5.684341886080802e-16 0.750499999999999" rpy="0.0 -0.0 0.0" />
            <mass value="11782.849999999999" />
            <inertia ixx="3194.1352360708297" iyy="3194.1352360708397" izz="1963.808333333232" ixy="1.455191522836685e-11" iyz="1.2102903277451475e-29" ixz="-1.455191522836685e-11" />
        </inertial>
        <visual name="Base_suspensa_1.5_visual">
            <origin xyz="-7.1000000000000005 -1.100000000000001 -0.10000000000000014" rpy="1.9105225048317027e-31 3.4211388288682077e-49 5.551115123044972e-17" />
            <geometry>
                <mesh filename="meshes/Base_suspensa_1.5.stl" scale="0.001 0.001 0.001" />
            </geometry>
        </visual>
        <collision name="Base_suspensa_1.5_collision">
            <origin xyz="-7.1000000000000005 -1.100000000000001 -0.10000000000000014" rpy="1.9105225048317027e-31 3.4211388288682077e-49 5.551115123044972e-17" />
            <geometry>
                <mesh filename="meshes/Base_suspensa_1.5.stl" scale="0.001 0.001 0.001" />
            </geometry>
        </collision>
    </link>
    <link name="base_supensa_1.0">
        <inertial>
            <origin xyz="1.2789769243681803e-15 -2.842170943040401e-15 0.5004999999999995" rpy="0.0 -0.0 0.0" />
            <mass value="7857.849999999996" />
            <inertia ixx="1310.951963154148" iyy="1310.9519631541639" izz="1309.6416666666187" ixy="-1.0913936421275137e-11" iyz="7.275957614183424e-12" ixz="-1.8189894035458563e-12" />
        </inertial>
        <visual name="base_supensa_1.0_visual">
            <origin xyz="-1.0999999999999992 -3.6000000000000023 -0.10000000000000002" rpy="1.9105225048317027e-31 3.4211388288682077e-49 5.551115123044972e-17" />
            <geometry>
                <mesh filename="meshes/base_supensa_1.0.stl" scale="0.001 0.001 0.001" />
            </geometry>
        </visual>
        <collision name="base_supensa_1.0_collision">
            <origin xyz="-1.0999999999999992 -3.6000000000000023 -0.10000000000000002" rpy="1.9105225048317027e-31 3.4211388288682077e-49 5.551115123044972e-17" />
            <geometry>
                <mesh filename="meshes/base_supensa_1.0.stl" scale="0.001 0.001 0.001" />
            </geometry>
        </collision>
    </link>
    <link name="Base_movel_1">
        <inertial>
            <origin xyz="1.1368683772161603e-15 -4.547473508864641e-15 0.6499999999999994" rpy="0.0 -0.0 0.0" />
            <mass value="10205.0" />
            <inertia ixx="2287.6208333331742" iyy="2287.6208333333334" izz="1700.8333333332553" ixy="-1.455191522836685e-11" iyz="1.4551915228366849e-11" ixz="3.6379788070917125e-12" />
        </inertial>
        <visual name="Base_movel_1_visual">
            <origin xyz="-1.6999999999999986 -6.200000000000005 -0.10000000000000007" rpy="1.9105225048317027e-31 3.4211388288682077e-49 5.551115123044972e-17" />
            <geometry>
                <mesh filename="meshes/Base_movel_1.stl" scale="0.001 0.001 0.001" />
            </geometry>
        </visual>
        <collision name="Base_movel_1_collision">
            <origin xyz="-1.6999999999999986 -6.200000000000005 -0.10000000000000007" rpy="1.9105225048317027e-31 3.4211388288682077e-49 5.551115123044972e-17" />
            <geometry>
                <mesh filename="meshes/Base_movel_1.stl" scale="0.001 0.001 0.001" />
            </geometry>
        </collision>
    </link>
    <link name="base_movel_2">
        <inertial>
            <origin xyz="1.1368683772161603e-15 -4.547473508864641e-15 0.6499999999999991" rpy="0.0 -0.0 0.0" />
            <mass value="10205.0" />
            <inertia ixx="2287.6208333331742" iyy="2287.620833333319" izz="1700.8333333332553" ixy="-5.82076609134674e-11" iyz="7.275957614183424e-12" ixz="3.6379788070917125e-12" />
        </inertial>
        <visual name="base_movel_2_visual">
            <origin xyz="-3.6999999999999984 -6.200000000000005 -0.10000000000000013" rpy="1.9105225048317027e-31 3.4211388288682077e-49 5.551115123044972e-17" />
            <geometry>
                <mesh filename="meshes/base_movel_2.stl" scale="0.001 0.001 0.001" />
            </geometry>
        </visual>
        <collision name="base_movel_2_collision">
            <origin xyz="-3.6999999999999984 -6.200000000000005 -0.10000000000000013" rpy="1.9105225048317027e-31 3.4211388288682077e-49 5.551115123044972e-17" />
            <geometry>
                <mesh filename="meshes/base_movel_2.stl" scale="0.001 0.001 0.001" />
            </geometry>
        </collision>
    </link>
    <link name="base_movel_3">
        <inertial>
            <origin xyz="5.684341886080802e-16 -3.9790393202565614e-15 0.6499999999999991" rpy="0.0 -0.0 0.0" />
            <mass value="10205.0" />
            <inertia ixx="2287.6208333332906" iyy="2287.620833333319" izz="1700.8333333333135" ixy="4.9344931600391197e-29" iyz="3.637978807091712e-12" ixz="-3.6379788070917125e-12" />
        </inertial>
        <visual name="base_movel_3_visual">
            <origin xyz="-4.199999999999999 -3.900000000000004 -0.10000000000000007" rpy="1.9105225048317027e-31 3.4211388288682077e-49 5.551115123044972e-17" />
            <geometry>
                <mesh filename="meshes/base_movel_3.stl" scale="0.001 0.001 0.001" />
            </geometry>
        </visual>
        <collision name="base_movel_3_collision">
            <origin xyz="-4.199999999999999 -3.900000000000004 -0.10000000000000007" rpy="1.9105225048317027e-31 3.4211388288682077e-49 5.551115123044972e-17" />
            <geometry>
                <mesh filename="meshes/base_movel_3.stl" scale="0.001 0.001 0.001" />
            </geometry>
        </collision>
    </link>
    <joint name="base_link_Rigido6" type="fixed">
        <origin xyz="-0.05000000000000087 7.9 0.15000000000000044" rpy="-1.5707963267948966 -1.1102230246251565e-16 -5.551115123044973e-17" />
        <parent link="base_link" />
        <child link="piso" />
    </joint>
    <joint name="piso_Rigido7" type="fixed">
        <origin xyz="0.05 0.0 0.14999999999999886" rpy="-1.5707963267948966 -0.0 -1.5707963267948966" />
        <parent link="piso" />
        <child link="parede2" />
    </joint>
    <joint name="piso_Rigido8" type="fixed">
        <origin xyz="8.1 0.0 0.09999999999999887" rpy="3.141592653589793 -0.0 0.0" />
        <parent link="piso" />
        <child link="parede3" />
    </joint>
    <joint name="piso_Rigido9" type="fixed">
        <origin xyz="0.05 0.0 -7.900000000000001" rpy="-1.5707963267948966 -0.0 -1.5707963267948966" />
        <parent link="piso" />
        <child link="parede4" />
    </joint>
    <joint name="piso_Rigido17" type="fixed">
        <origin xyz="7.8 -0.049 -4.850000000000001" rpy="1.5707963267948966 -0.0 0.0" />
        <parent link="piso" />
        <child link="prateleira" />
    </joint>
    <joint name="prateleira_deslizador_A0" type="fixed">
        <origin xyz="-0.1 0.8 1.05" rpy="-6.162975822039156e-33 5.847028654060601e-65 9.487346410075616e-33" />
        <parent link="prateleira" />
        <child link="cubo_A0" />
    </joint>
    <joint name="prateleira_deslizador_A1" type="fixed">
        <origin xyz="-0.1 1.6 1.05" rpy="-6.162975822039156e-33 5.847028654060601e-65 9.487346410075616e-33" />
        <parent link="prateleira" />
        <child link="cubo_A1" />
    </joint>
    <joint name="prateleira_delizador_A2" type="fixed">
        <origin xyz="-0.1 2.5 1.05" rpy="-6.162975822039156e-33 5.847028654060601e-65 9.487346410075616e-33" />
        <parent link="prateleira" />
        <child link="cubo_A2" />
    </joint>
    <joint name="prateleira_delizador_A3" type="fixed">
        <origin xyz="-0.1 3.3000000000000003 1.05" rpy="-6.162975822039156e-33 5.847028654060601e-65 9.487346410075616e-33" />
        <parent link="prateleira" />
        <child link="cubo_A3" />
    </joint>
    <joint name="prateleira_deslizador_B0" type="fixed">
        <origin xyz="-0.1 3.1 1.6500000000000001" rpy="-6.162975822039156e-33 5.847028654060601e-65 9.487346410075616e-33" />
        <parent link="prateleira" />
        <child link="cubo_B0" />
    </joint>
    <joint name="prateleira_deslizador_B1" type="fixed">
        <origin xyz="-0.1 2.4 1.6500000000000001" rpy="-6.162975822039156e-33 5.847028654060601e-65 9.487346410075616e-33" />
        <parent link="prateleira" />
        <child link="cubo_B1" />
    </joint>
    <joint name="prateleira_deslizador_B2" type="fixed">
        <origin xyz="-0.1 1.6500000000000001 1.6500000000000001" rpy="-6.162975822039156e-33 5.847028654060601e-65 9.487346410075616e-33" />
        <parent link="prateleira" />
        <child link="cubo_B2" />
    </joint>
    <joint name="prateleira_deslizador_B3" type="fixed">
        <origin xyz="-0.1 0.8 1.6500000000000001" rpy="-6.162975822039156e-33 5.847028654060601e-65 9.487346410075616e-33" />
        <parent link="prateleira" />
        <child link="cubo_B3" />
    </joint>
    <joint name="prateleira_deslizador_C3" type="fixed">
        <origin xyz="-0.1 0.6 2.2" rpy="-6.162975822039156e-33 5.847028654060601e-65 9.487346410075616e-33" />
        <parent link="prateleira" />
        <child link="cubo_C3" />
    </joint>
    <joint name="prateleira_deslizador_C2" type="fixed">
        <origin xyz="-0.1 1.5 2.2" rpy="-6.162975822039156e-33 5.847028654060601e-65 9.487346410075616e-33" />
        <parent link="prateleira" />
        <child link="cubo_C2" />
    </joint>
    <joint name="prateleira_deslizador_C1" type="fixed">
        <origin xyz="-0.1 2.5 2.2" rpy="-6.162975822039156e-33 5.847028654060601e-65 9.487346410075616e-33" />
        <parent link="prateleira" />
        <child link="cubo_C1" />
    </joint>
    <joint name="prateleira_deslizador_C0" type="fixed">
        <origin xyz="-0.1 3.1537933199999997 2.2" rpy="-6.162975822039156e-33 5.847028654060601e-65 9.487346410075616e-33" />
        <parent link="prateleira" />
        <child link="cubo_C0" />
    </joint>
    <joint name="prateleira_deslizador_D3" type="fixed">
        <origin xyz="-0.1 0.7000000000000001 2.75" rpy="-6.162975822039156e-33 5.847028654060601e-65 9.487346410075616e-33" />
        <parent link="prateleira" />
        <child link="cubo_D3" />
    </joint>
    <joint name="prateleira_deslizador_D2" type="fixed">
        <origin xyz="-0.1 1.6500000000000001 2.75" rpy="-6.162975822039156e-33 5.847028654060601e-65 9.487346410075616e-33" />
        <parent link="prateleira" />
        <child link="cubo_D2" />
    </joint>
    <joint name="prateleira_deslizador_D1" type="fixed">
        <origin xyz="-0.1 2.5 2.75" rpy="-6.162975822039156e-33 5.847028654060601e-65 9.487346410075616e-33" />
        <parent link="prateleira" />
        <child link="cubo_D1" />
    </joint>
    <joint name="prateleira_deslizador_D0" type="fixed">
        <origin xyz="-0.1 3.3000000000000003 2.75" rpy="-6.162975822039156e-33 5.847028654060601e-65 9.487346410075616e-33" />
        <parent link="prateleira" />
        <child link="cubo_D0" />
    </joint>
    <joint name="piso_Rigido37" type="fixed">
        <origin xyz="1.05 -0.049 -7.150000000000001" rpy="1.5707963267948966 -0.0 0.0" />
        <parent link="piso" />
        <child link="Base_de_Takeoff" />
    </joint>
    <joint name="piso_Rigido-38" type="fixed">
        <origin xyz="7.05 -0.049 -6.900000000000001" rpy="1.5707963267948966 -0.0 0.0" />
        <parent link="piso" />
        <child link="Base_suspensa_1.5" />
    </joint>
    <joint name="piso_Rigido-39" type="fixed">
        <origin xyz="1.05 -0.049 -4.400000000000001" rpy="1.5707963267948966 -0.0 0.0" />
        <parent link="piso" />
        <child link="base_supensa_1.0" />
    </joint>
    <joint name="piso_Base_movel_1" type="fixed">
        <origin xyz="4.05 -0.05 -3.9000000000000012" rpy="1.5707963267948966 -0.0 0.0" />
        <parent link="piso" />
        <child link="base_movel_3" />
    </joint>
    <joint name="piso_Base_movel_3" type="fixed">
        <origin xyz="1.6500000000000001 -0.0501 -1.8000000000000012" rpy="1.5707963267948966 -0.0 0.0" />
        <parent link="piso" />
        <child link="Base_movel_1" />
    </joint>
    <joint name="piso_Base_movel_2" type="fixed">
        <origin xyz="3.65 -0.0501 -1.8000000000000012" rpy="1.5707963267948966 -0.0 0.0" />
        <parent link="piso" />
        <child link="base_movel_2" />
    </joint>
    <joint name="cubo_A0_Rígido-53" type="fixed">
        <origin xyz="-0.05 0.0 0.0" rpy="-1.5707963267948966 -0.0 1.5707963267948966" />
        <parent link="cubo_A0" />
        <child link="cubo_A0b" />
    </joint>
    <joint name="cubo_A1_Rígido-54" type="fixed">
        <origin xyz="-0.05 0.0 0.0" rpy="1.5707963267948966 -1.2325951644078312e-32 -3.324370588036439e-33" />
        <parent link="cubo_A1" />
        <child link="cubo_A1b" />
    </joint>
    <joint name="cubo_A2_Rígido-55" type="fixed">
        <origin xyz="-0.05 0.0 0.0" rpy="3.141592653589793 9.672997884803559e-33 1.5707963267948966" />
        <parent link="cubo_A2" />
        <child link="cubo_A2b" />
    </joint>
    <joint name="cubo_A3_Rígido-56" type="fixed">
        <origin xyz="-0.05 0.0 0.0" rpy="-3.141592653589793 -2.8421709430404013e-15 -1.5707963267948966" />
        <parent link="cubo_A3" />
        <child link="cubo_A3b" />
    </joint>
    <joint name="cubo_B0_Rígido-57" type="fixed">
        <origin xyz="-0.05 0.0 0.0" rpy="3.141592653589793 9.672997884803979e-33 1.5707963267949308" />
        <parent link="cubo_B0" />
        <child link="cubo_B0b" />
    </joint>
    <joint name="cubo_B1_Rígido-58" type="fixed">
        <origin xyz="-0.05 0.0 0.0" rpy="3.141592653589793 9.672997884803979e-33 1.5707963267949308" />
        <parent link="cubo_B1" />
        <child link="cubo_B1b" />
    </joint>
    <joint name="cubo_B2_Rígido-59" type="fixed">
        <origin xyz="-0.05 0.0 0.0" rpy="-1.232595164407987e-32 -3.4324901172959574e-32 -1.570796326794851" />
        <parent link="cubo_B2" />
        <child link="cubo_B2b" />
    </joint>
    <joint name="cubo_B3_Rígido-60" type="fixed">
        <origin xyz="-0.05 0.0 0.0" rpy="-1.232595164407948e-32 -3.432490117295971e-32 -1.5707963267948626" />
        <parent link="cubo_B3" />
        <child link="cubo_B3b" />
    </joint>
    <joint name="cubo_C0_Rígido-61" type="fixed">
        <origin xyz="-0.05 0.0 0.0" rpy="3.141592653589793 9.672997884803559e-33 1.5707963267948966" />
        <parent link="cubo_C0" />
        <child link="cubo_C0b" />
    </joint>
    <joint name="cubo_C1_Rígido-62" type="fixed">
        <origin xyz="-0.05 0.0 0.0" rpy="3.141592653589793 9.672997884803698e-33 1.5707963267949079" />
        <parent link="cubo_C1" />
        <child link="cubo_C1b" />
    </joint>
    <joint name="cubo_C2_Rígido-63" type="fixed">
        <origin xyz="-0.05 0.0 0.0" rpy="3.141592653589793 9.672997884803139e-33 1.5707963267948626" />
        <parent link="cubo_C2" />
        <child link="cubo_C2b" />
    </joint>
    <joint name="cubo_C3_Rígido-64" type="fixed">
        <origin xyz="-0.05 0.0 0.0" rpy="3.141592653589793 2.842170943041015e-15 1.5707963267949079" />
        <parent link="cubo_C3" />
        <child link="cubo_C3b" />
    </joint>
    <joint name="cubo_D0_Rígido-65" type="fixed">
        <origin xyz="-0.05 0.0 0.0" rpy="3.141592653589793 9.672997884803698e-33 1.5707963267949079" />
        <parent link="cubo_D0" />
        <child link="cubo_D0b" />
    </joint>
    <joint name="cubo_D1_Rígido-66" type="fixed">
        <origin xyz="-0.05 0.0 0.0" rpy="3.141592653589793 5.684341886080738e-15 1.5707963267949194" />
        <parent link="cubo_D1" />
        <child link="cubo_D1b" />
    </joint>
    <joint name="cubo_D2_Rígido-67" type="fixed">
        <origin xyz="-0.05 0.0 0.0" rpy="3.141592653589793 9.672997884803698e-33 1.5707963267949079" />
        <parent link="cubo_D2" />
        <child link="cubo_D2b" />
    </joint>
    <joint name="cubo_D3_Rígido-68" type="fixed">
        <origin xyz="-0.05 0.0 0.0" rpy="3.141592653589793 9.672997884803698e-33 1.5707963267949079" />
        <parent link="cubo_D3" />
        <child link="cubo_D3b" />
    </joint>
</robot>
